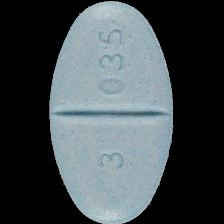54868-4091: (0, 0, 224, 224)
